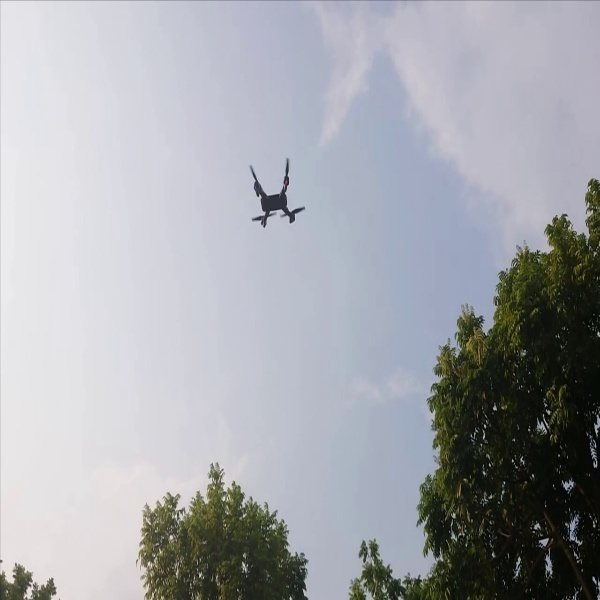drone: (240, 155, 310, 234)
